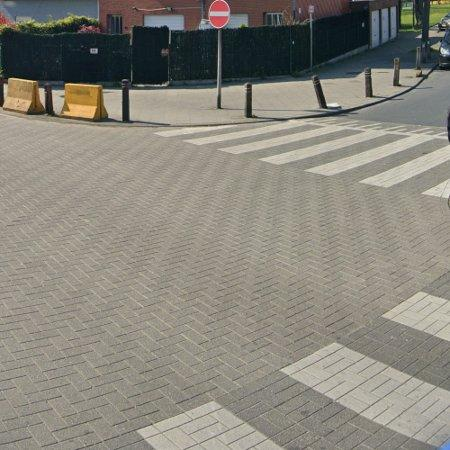crosswalks: (154, 121, 450, 204)
